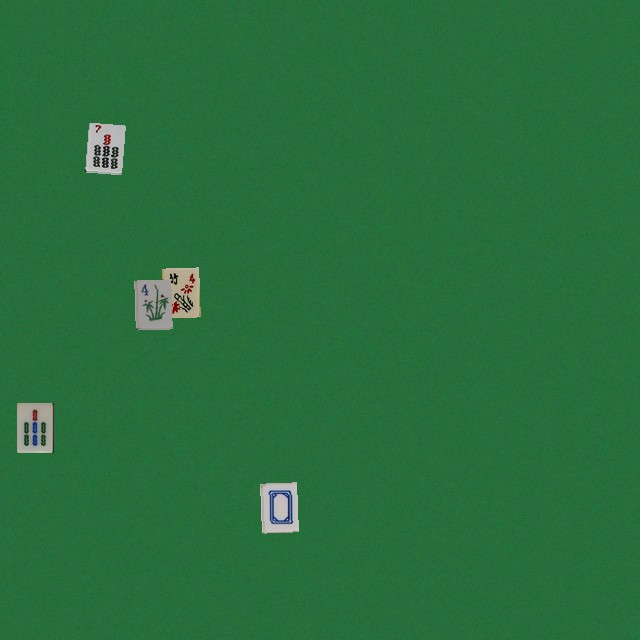tile: (162, 267, 199, 317), (260, 482, 297, 532), (85, 122, 122, 172), (134, 279, 171, 329), (16, 402, 53, 452)
